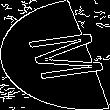M_E: (8, 27, 102, 83)
